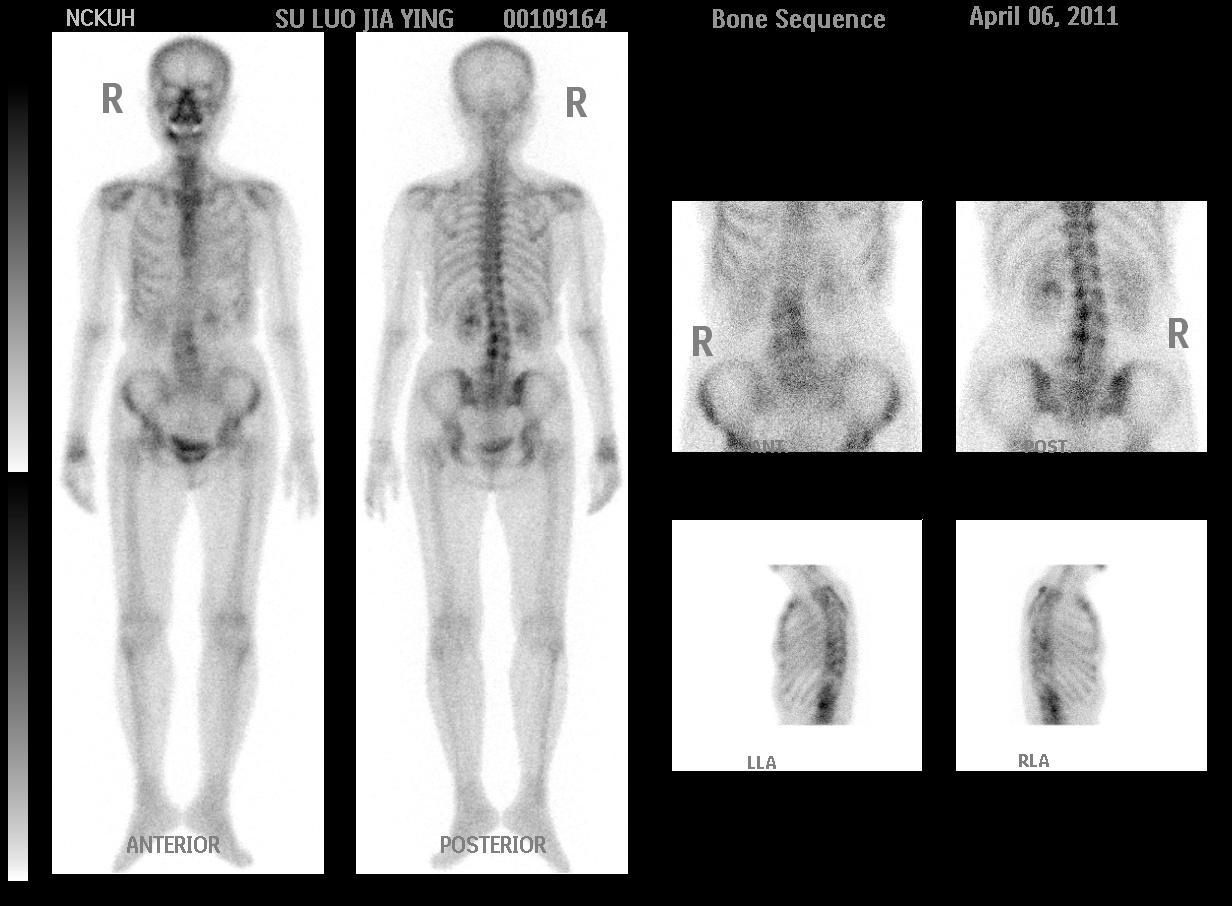person: (52, 31, 630, 876)
